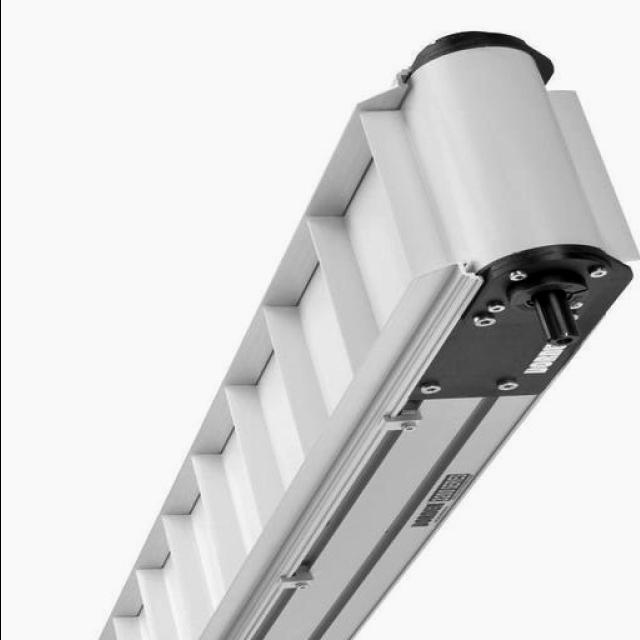conveyor: (100, 52, 614, 640)
